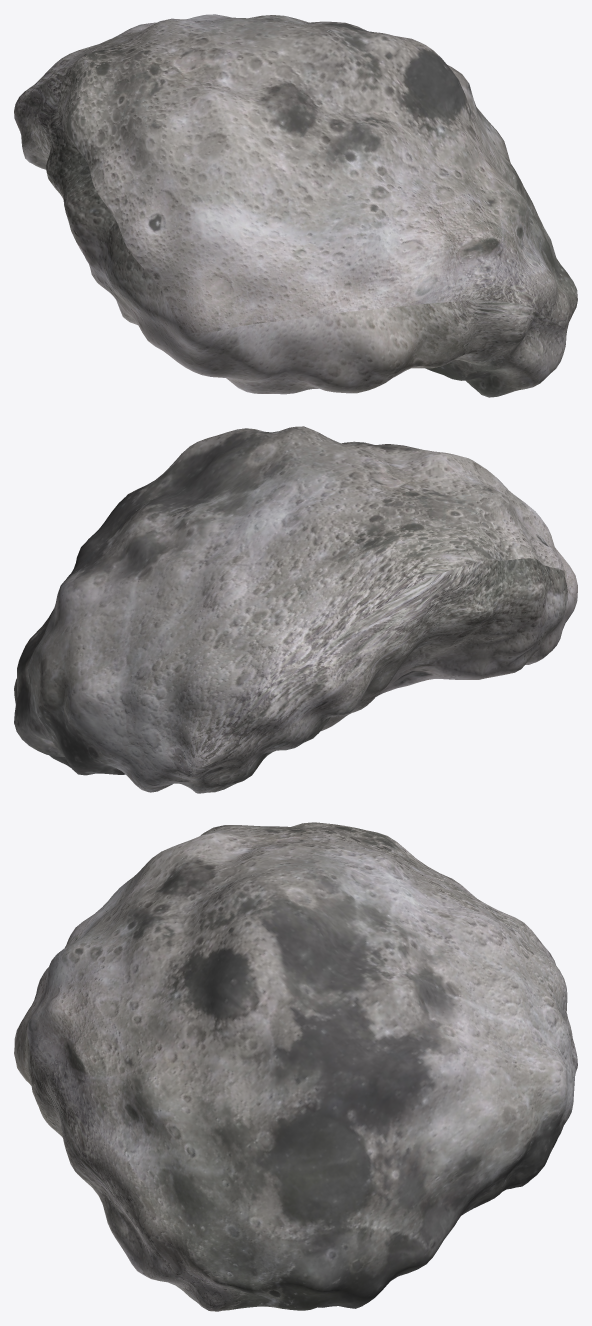
Rendered from astrto1.fbx.
3 views of the same model, one above another, from view 1: azimuth 30°, elevation 25°; view 2: azimuth 150°, elevation 25°; view 3: azimuth 270°, elevation 25° (orthographic). The views are drawn at different scales.
Visible parts, largest first — view 1: rock; view 2: rock; view 3: rock.
Part boxes in pixels (x1=…): rock: x1=14, y1=14, x2=577, y2=397; rock: x1=14, y1=426, x2=577, y2=793; rock: x1=14, y1=822, x2=577, y2=1311.
Bounding box in the file's own units: 100 × 70.7 × 103.
1 material, 1 textured.
